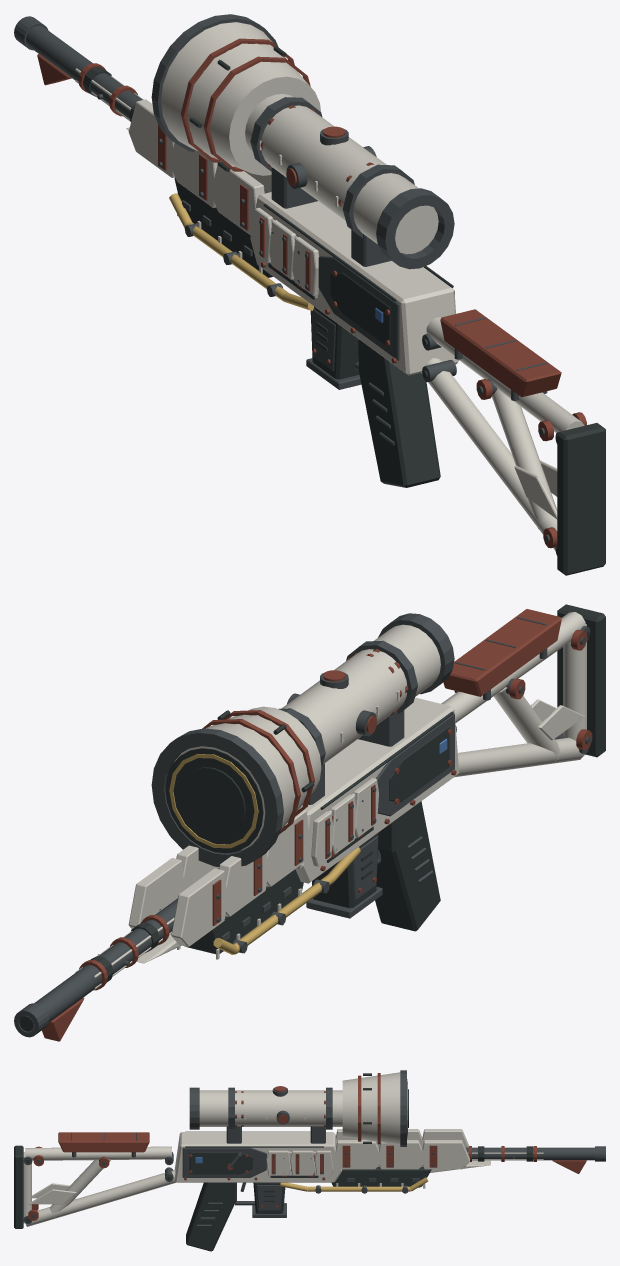
The model's file is sniper_2.glb.
The picture shows the model from 3 angles, top to bottom: view 1: azimuth 30°, elevation 25°; view 2: azimuth 150°, elevation 25°; view 3: azimuth 270°, elevation 25°; orthographic projection. The views are drawn at different scales.
Visible parts, largest first — view 1: Weapon_sniper_v1; view 2: Weapon_sniper_v1; view 3: Weapon_sniper_v1.
Boxes of the visible parts, x1,y1,x2,y2 form: Weapon_sniper_v1: (14, 14, 605, 575); Weapon_sniper_v1: (14, 604, 605, 1041); Weapon_sniper_v1: (14, 1070, 605, 1251).
Size of the model in its own units: 0.142 by 0.3531 by 1.09.
